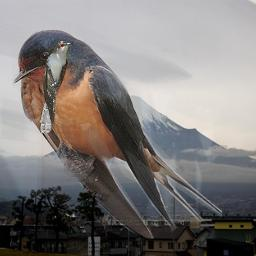Cuckoo: (39, 40, 74, 133)
Swallow: (12, 27, 222, 239)
